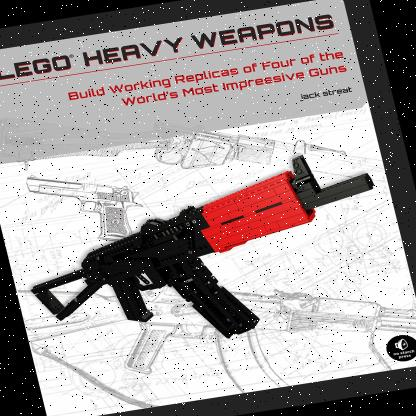rifle: (8, 147, 406, 369)
